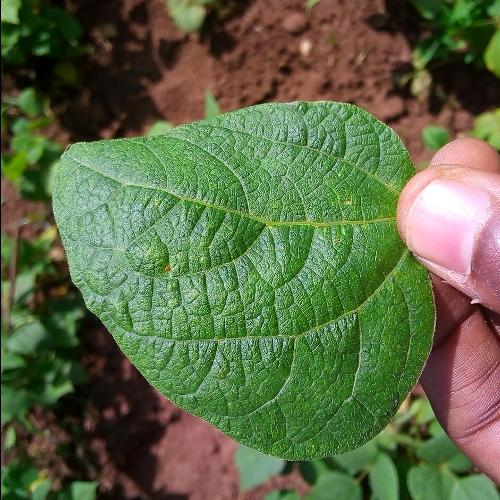sehat: (162, 172, 378, 367)
